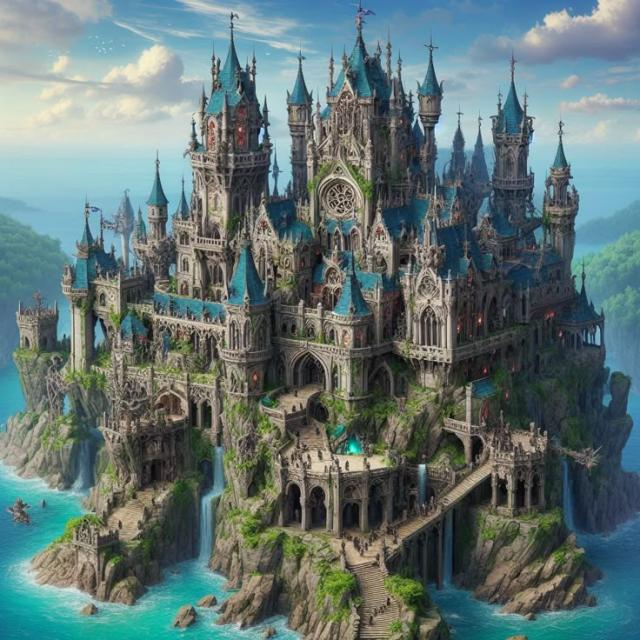castle: (38, 16, 610, 416)
